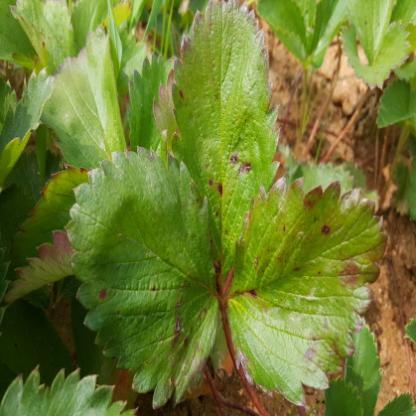Strawberry_Leaf_Spot: (64, 146, 220, 410), (225, 177, 388, 406), (170, 0, 283, 288)
